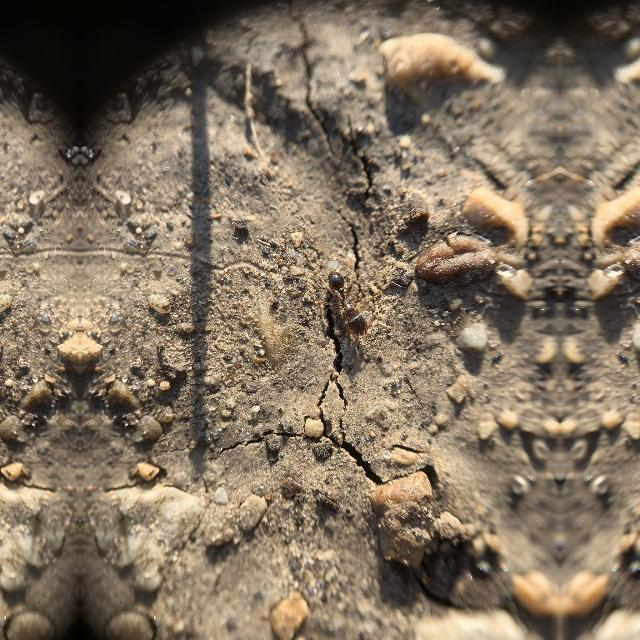Tetramorium: (318, 262, 372, 334)
